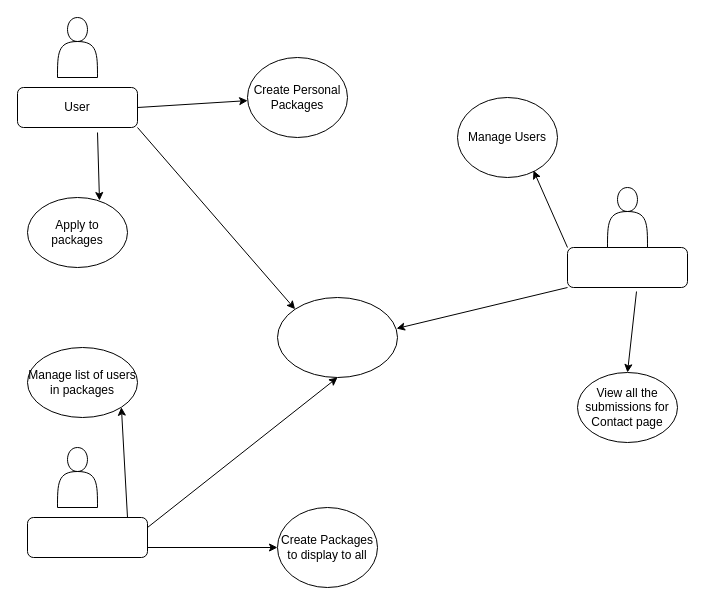
Some shapes in this 705 by 605 pixel diagram are drawn without their labels. The shapes that lost their labels are listed below. From the top down, each one's box as (x1, y1, x2, y2) in pixels, then its label:
(566, 246, 688, 288): Admin
(276, 296, 398, 378): Login/Logout
(26, 516, 148, 558): Tour Guide
